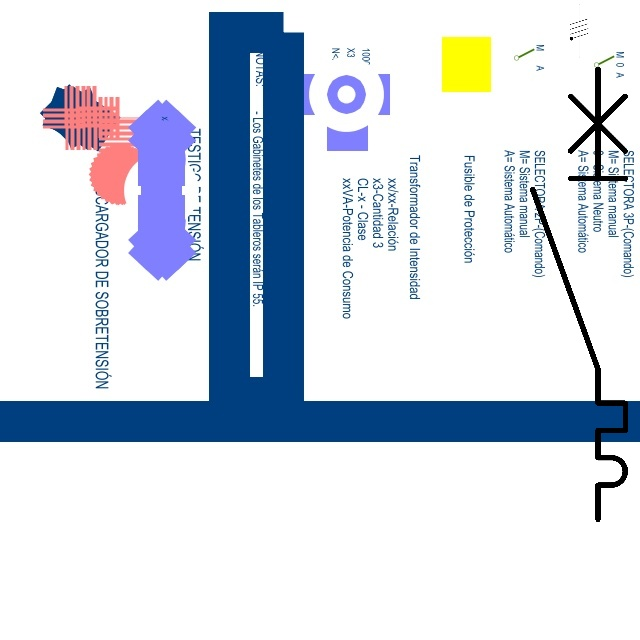interruptor_termomagnetico: (521, 57, 637, 530)
